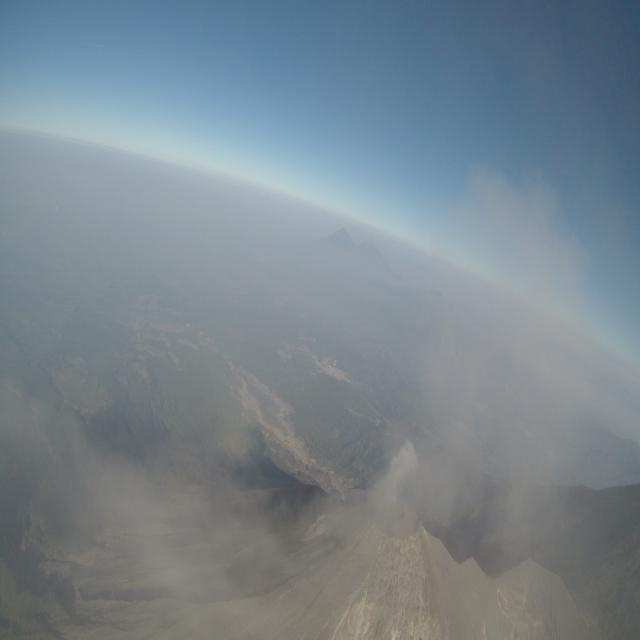Plume: (379, 438, 420, 504)
Summit: (280, 484, 515, 640)
